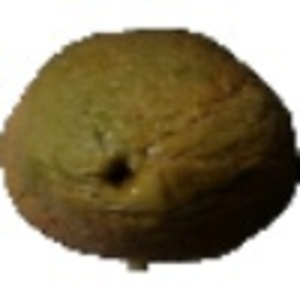mamão: (6, 32, 294, 261)
